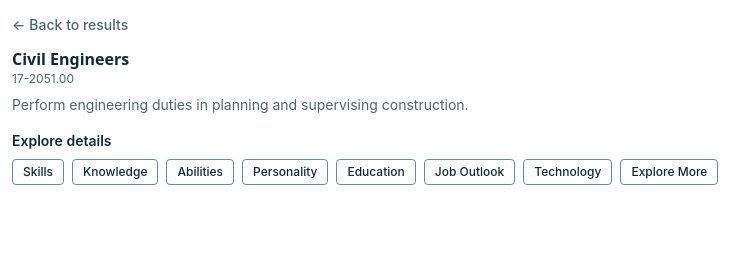
Test case: CareerDetailView › lazily loads a section only when it is selected, not all sections upfront
This screenshot has width=735, height=280.
Expected: the heading "Civil Engineers" is shown, [12,48,129,70]
Click the button "Skills".
click(38, 172)  # box [12,159,64,185]
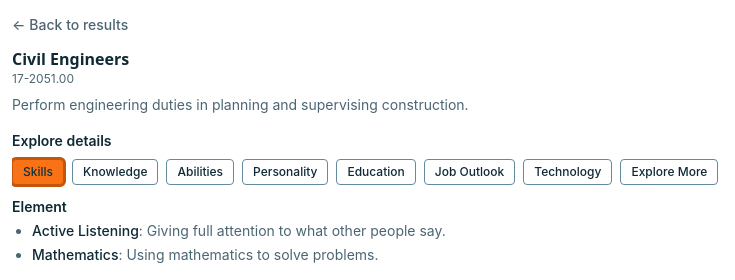
Expected: the text "Active Listening" is shown, [32,222,139,239]
// Selecting a different section fetches that one too, still nothing extra.
Click the button "Knowledge".
click(115, 172)  # box [72,159,158,185]
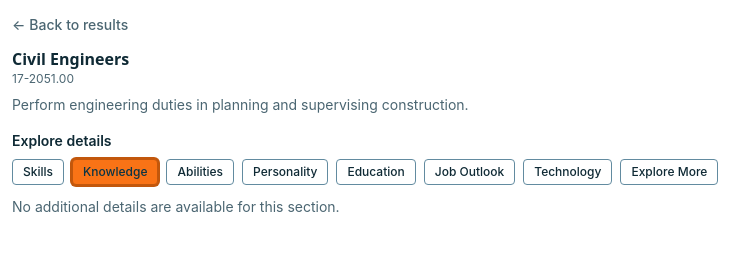
// Re-selecting "Skills" does not re-fetch it — the result is cached.
Click the button "Skills".
click(38, 172)  # box [12,159,64,185]
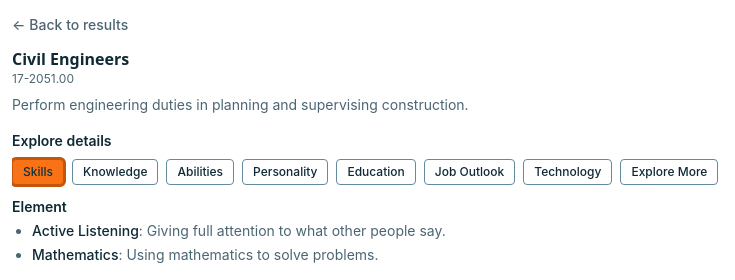
Expected: the text "Active Listening" is shown, [32,222,139,239]
